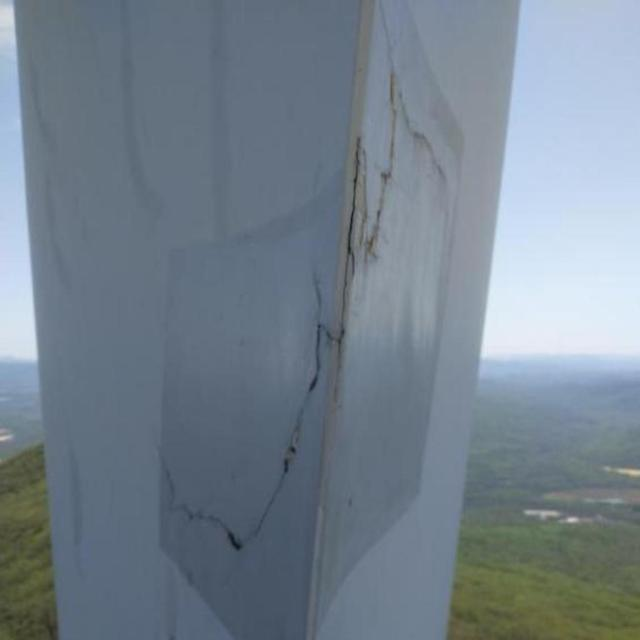crack: (158, 328, 332, 546), (338, 74, 443, 326)
